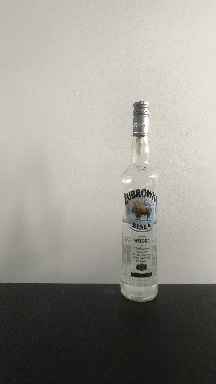butelka: (119, 97, 158, 304)
